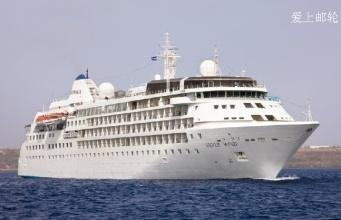youlun: (20, 62, 321, 182)
